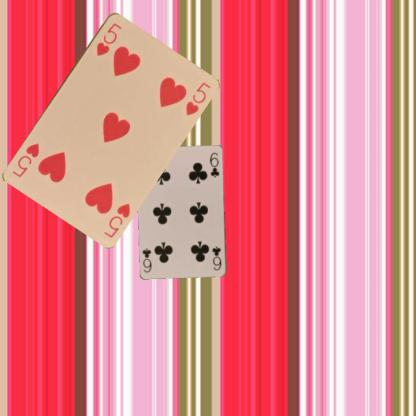5h: (101, 201, 131, 239), (94, 20, 123, 58)
6c: (210, 244, 222, 271)
